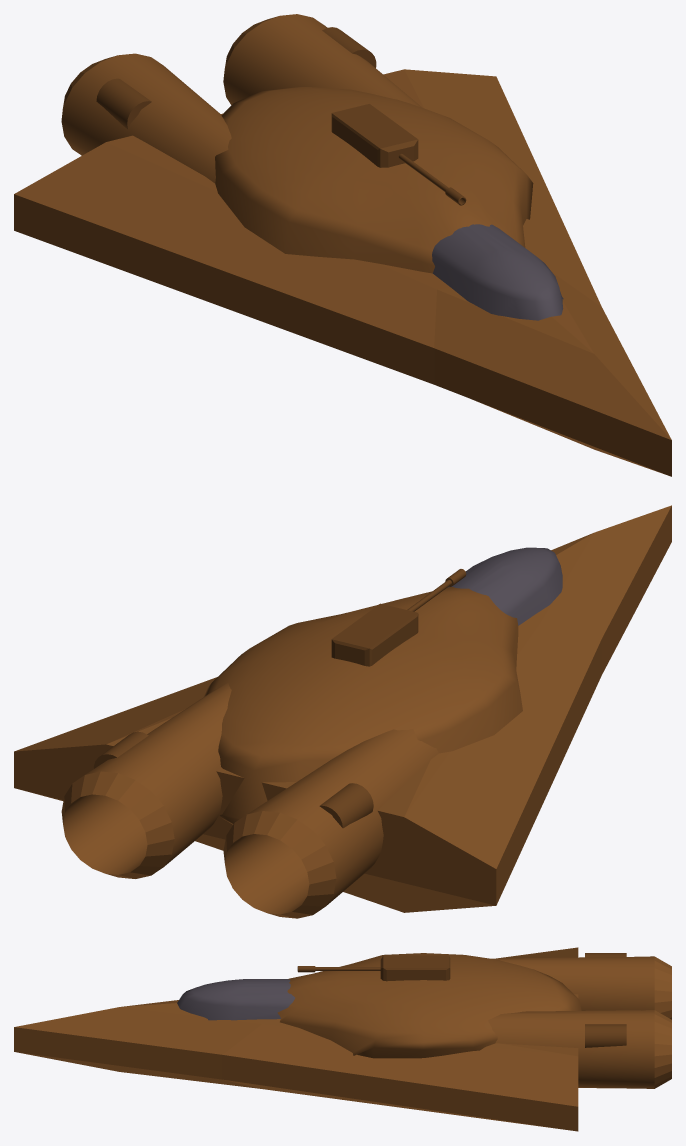
Rendered from caza02_03.fbx.
The picture shows the model from 3 angles, top to bottom: view 1: azimuth 30°, elevation 25°; view 2: azimuth 150°, elevation 25°; view 3: azimuth 270°, elevation 25°; orthographic projection. The views are drawn at different scales.
Parts seen in each view (by area): view 1: group7; view 2: group7; view 3: group7.
Part boxes in pixels (x1,y1,x2,y2): group7: [14, 14, 671, 476]; group7: [14, 505, 671, 918]; group7: [14, 947, 671, 1131].
Bounding box in the file's own units: 758 × 261 × 1322.
